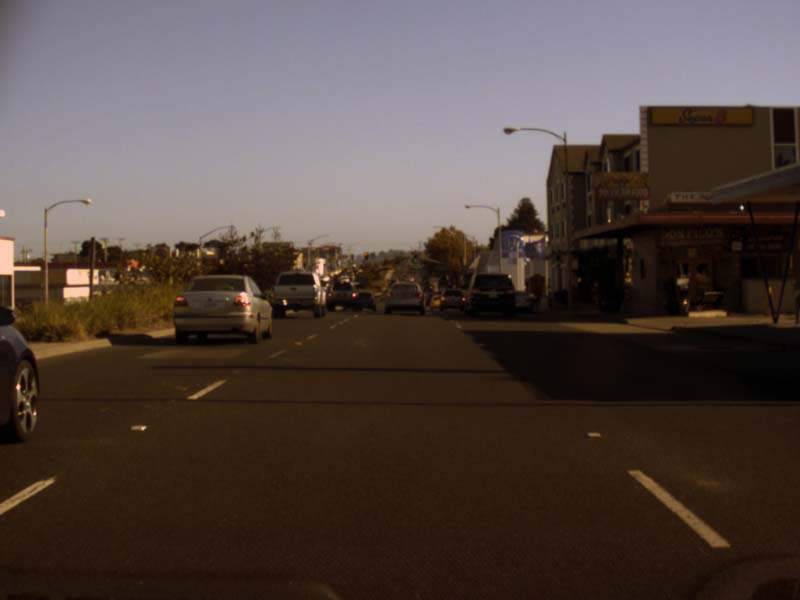Green: (413, 252, 417, 263)
Red: (364, 251, 368, 260)
